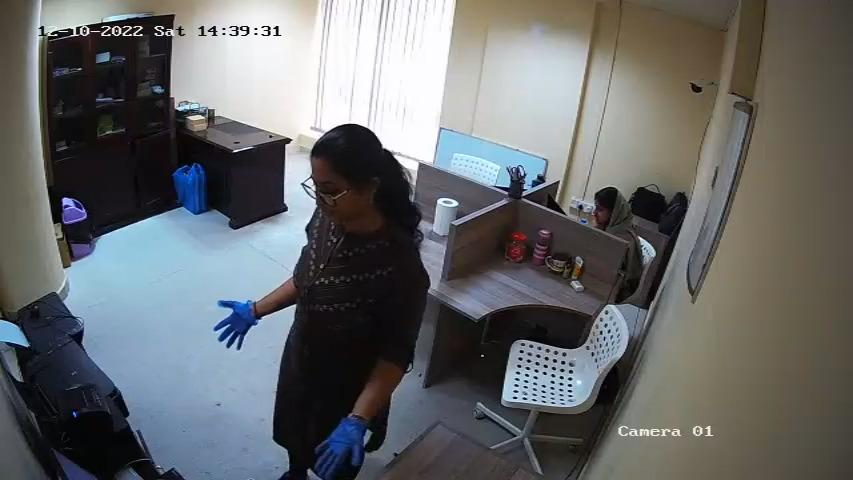gloves: (311, 417, 367, 480), (212, 293, 260, 352)
